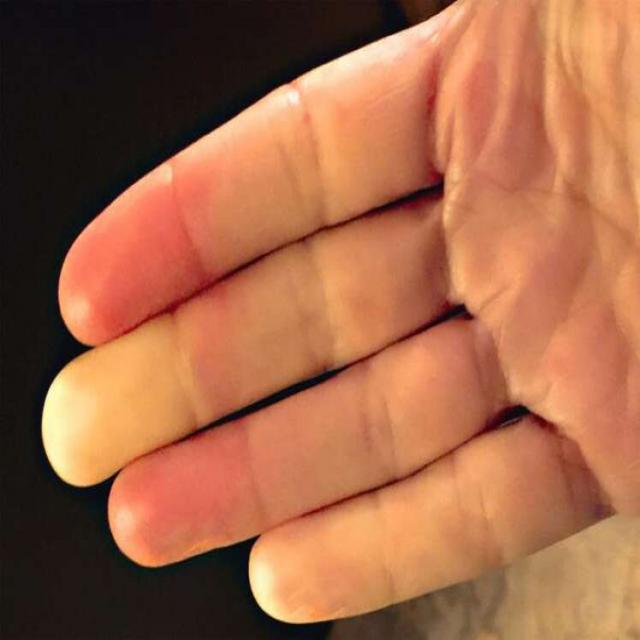raynauds: (36, 355, 510, 587)
